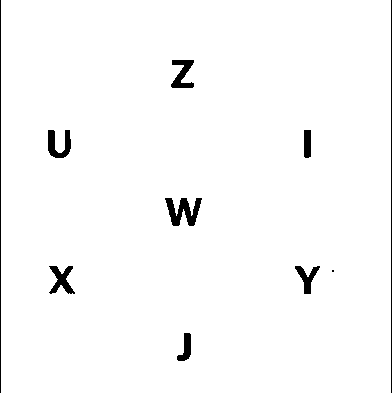I: (297, 124, 319, 169)
U: (42, 126, 77, 164)
